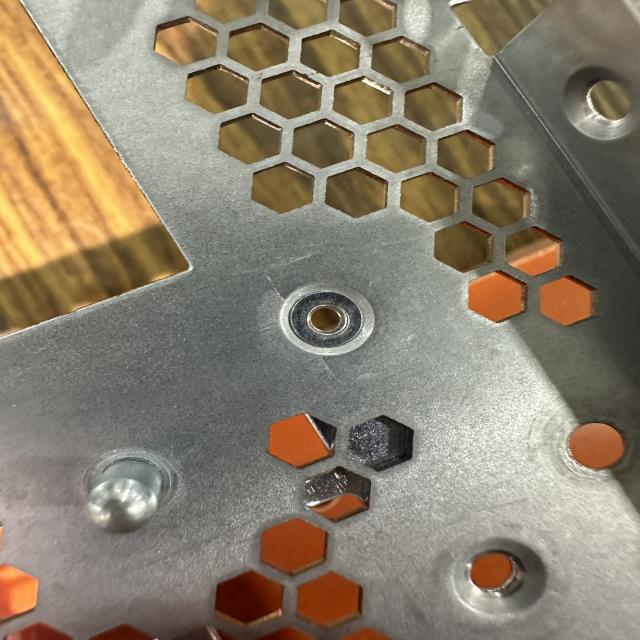Missing screw: (268, 276, 394, 362)
